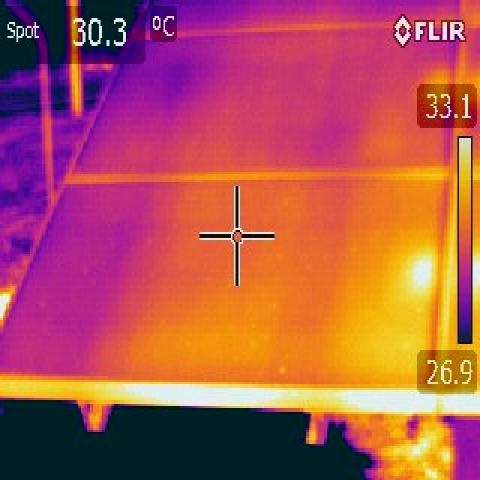fault: (408, 252, 435, 296), (474, 256, 480, 292)
